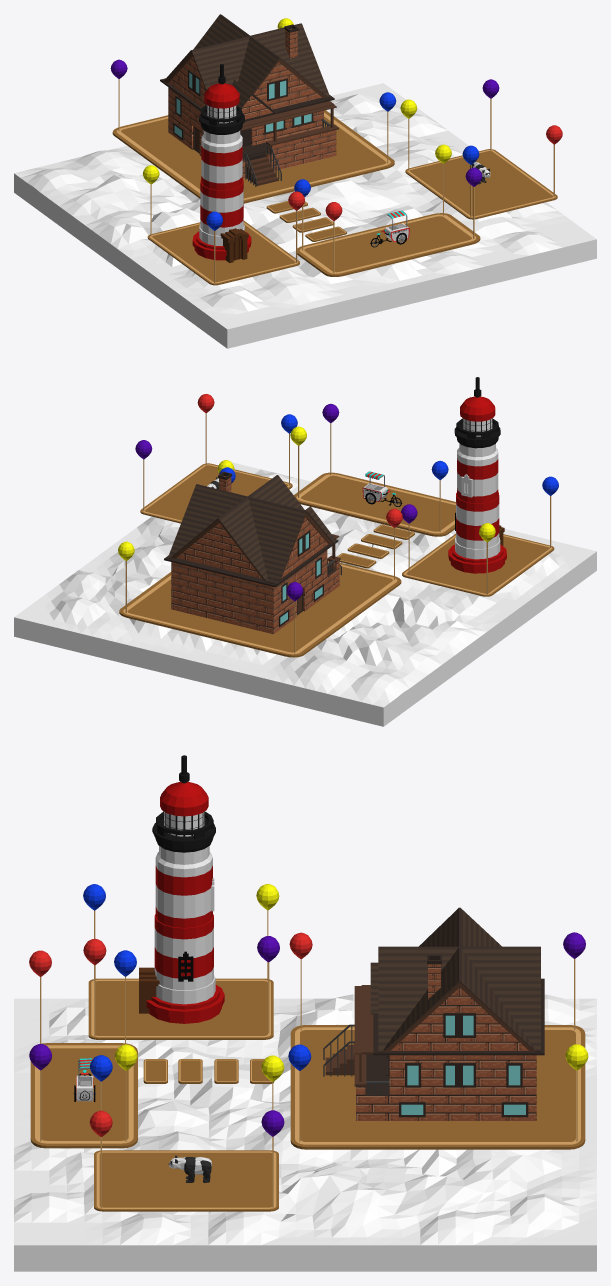
The picture shows the model from 3 angles, top to bottom: view 1: azimuth 30°, elevation 25°; view 2: azimuth 150°, elevation 25°; view 3: azimuth 270°, elevation 25°; orthographic projection. The views are drawn at different scales.
Visible parts, largest first — view 1: Cube.013, Cube.469, OBJRANDOM_LIGHTHOUSE, VEHICLES_SNOWBAL_BIKE; view 2: Cube.013, Cube.469, OBJRANDOM_LIGHTHOUSE, VEHICLES_SNOWBAL_BIKE; view 3: Cube.013, Cube.469, OBJRANDOM_LIGHTHOUSE, ANIMAL_PANDA, VEHICLES_SNOWBAL_BIKE.
Boxes of the visible parts, left/top/right/bottom form: Cube.013: left=14, top=18, right=596, bottom=348; Cube.469: left=160, top=14, right=338, bottom=186; OBJRANDOM_LIGHTHOUSE: left=192, top=64, right=251, bottom=262; VEHICLES_SNOWBAL_BIKE: left=370, top=210, right=409, bottom=247; Cube.013: left=14, top=394, right=596, bottom=726; Cube.469: left=164, top=471, right=341, bottom=634; OBJRANDOM_LIGHTHOUSE: left=448, top=377, right=506, bottom=573; VEHICLES_SNOWBAL_BIKE: left=362, top=471, right=402, bottom=506; Cube.013: left=14, top=884, right=596, bottom=1271; Cube.469: left=323, top=907, right=544, bottom=1120; OBJRANDOM_LIGHTHOUSE: left=139, top=755, right=224, bottom=1023; ANIMAL_PANDA: left=168, top=1155, right=211, bottom=1182; VEHICLES_SNOWBAL_BIKE: left=73, top=1058, right=95, bottom=1101.
Bounding box in the file's own units: 4000 × 2401 × 4000.
Materials: 37 (2 with a texture image).
